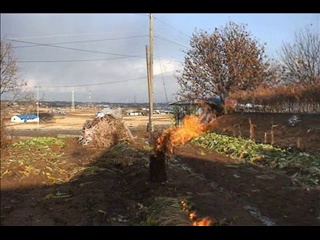fire: (154, 111, 210, 153), (179, 196, 212, 226)
